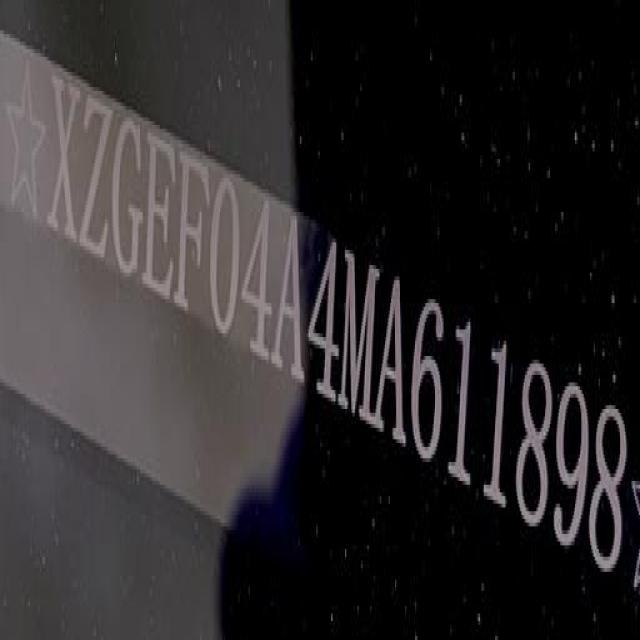0: (211, 172, 241, 344)
1: (450, 317, 476, 497), (486, 338, 508, 522)
4: (241, 185, 275, 368), (309, 231, 341, 411)
6: (411, 292, 445, 473)
8: (515, 345, 550, 538), (593, 393, 628, 580)
9: (556, 372, 588, 562)
A: (274, 206, 306, 390), (379, 266, 406, 455)
E: (144, 115, 176, 311)
F: (178, 143, 210, 325)
G: (112, 115, 144, 288)
M: (339, 251, 377, 431)
X: (50, 72, 80, 250)
Z: (82, 94, 110, 266)
